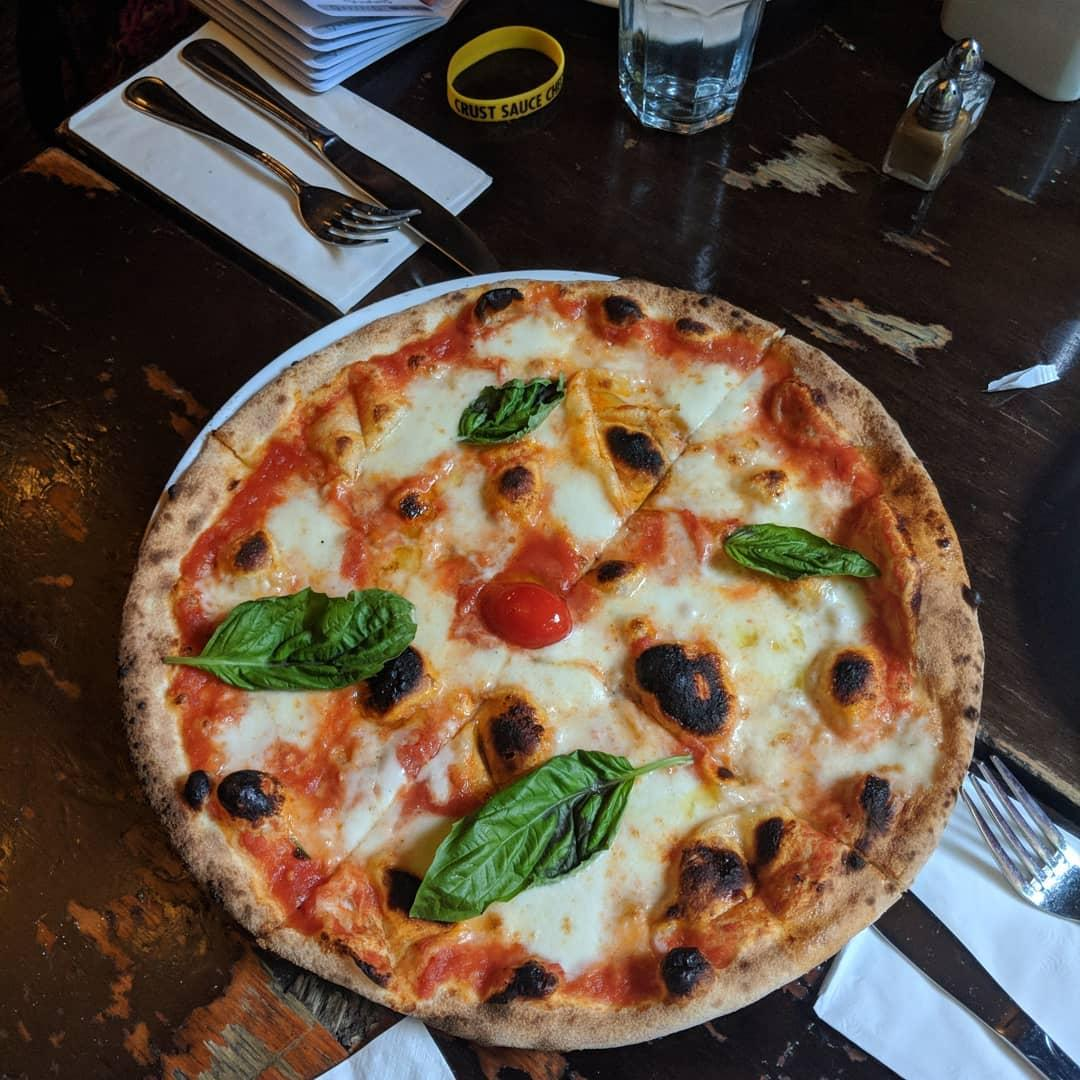Basil: (403, 747, 697, 930), (156, 584, 418, 699), (719, 519, 884, 596), (450, 367, 577, 453)
Pizza: (117, 268, 988, 1050)
Tomatoes: (453, 576, 576, 658)
